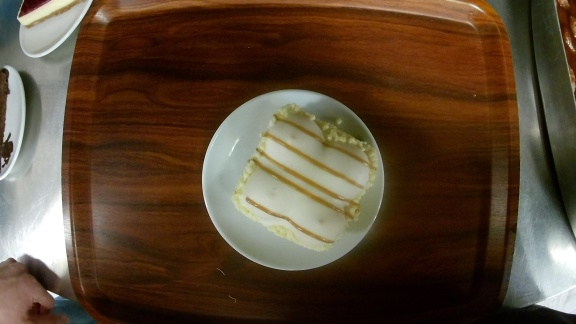beyazpasta: (205, 89, 384, 269)
